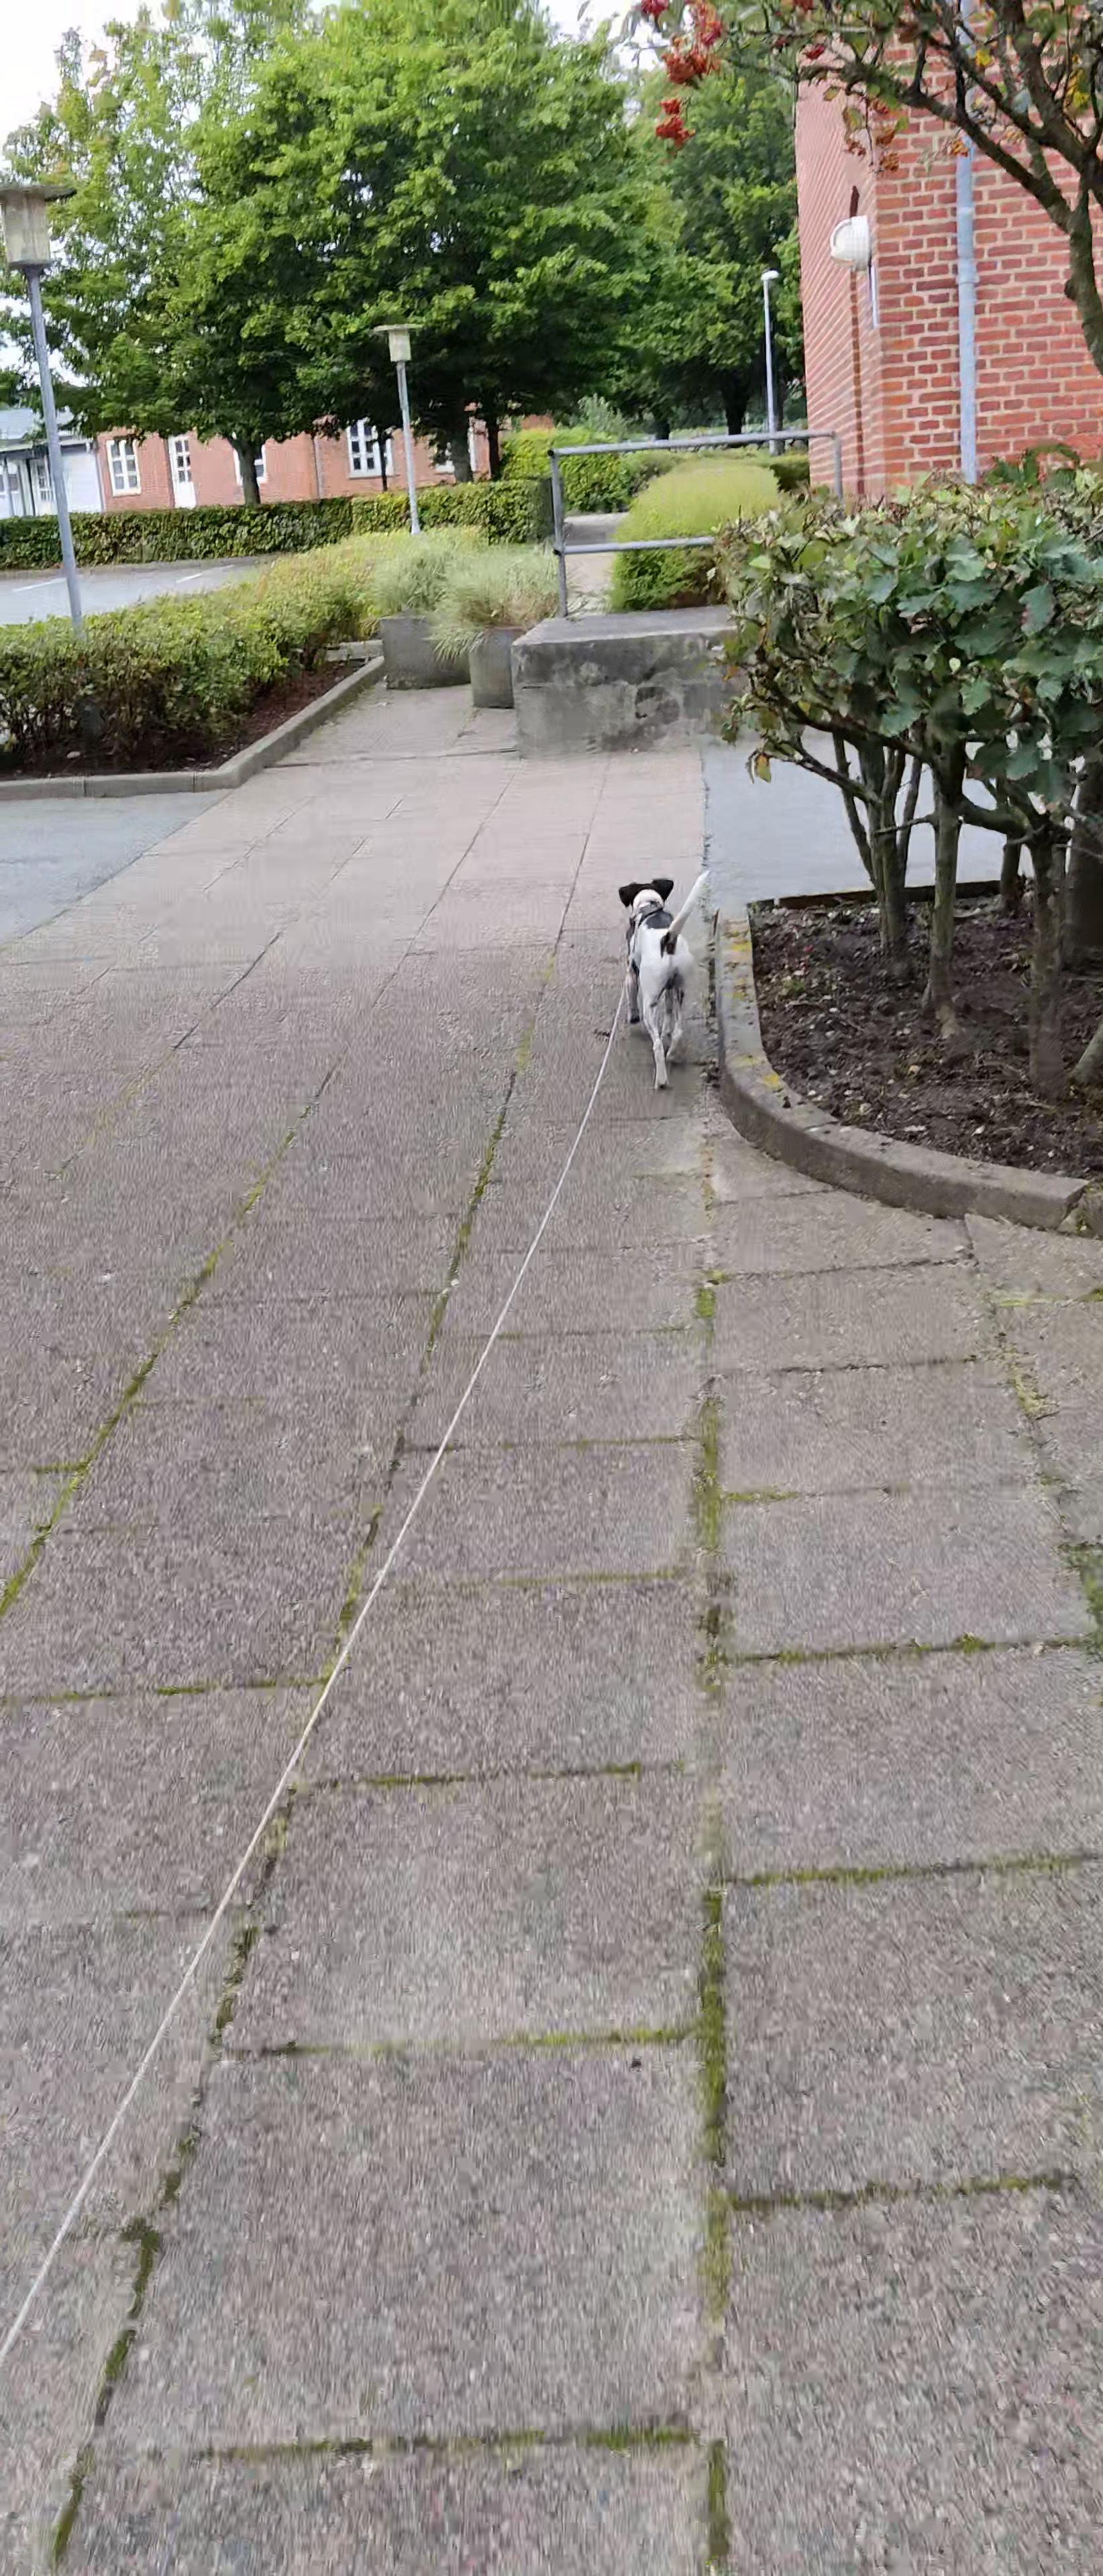Dog: (616, 867, 717, 1094)
